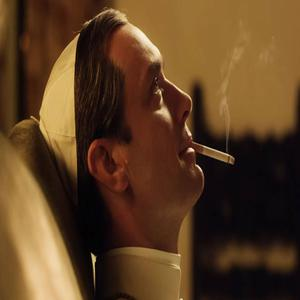cigarette: (190, 142, 238, 166)
